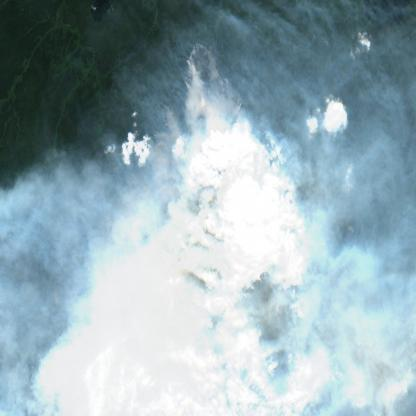fire: (132, 40, 250, 322)
